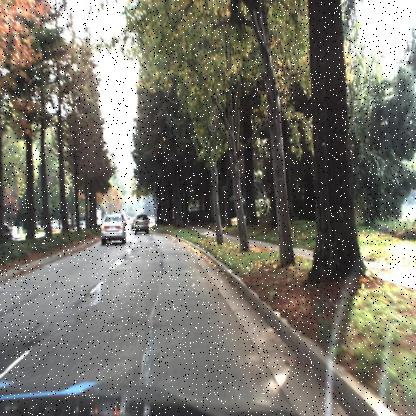car: (97, 212, 128, 247), (133, 210, 151, 237)
